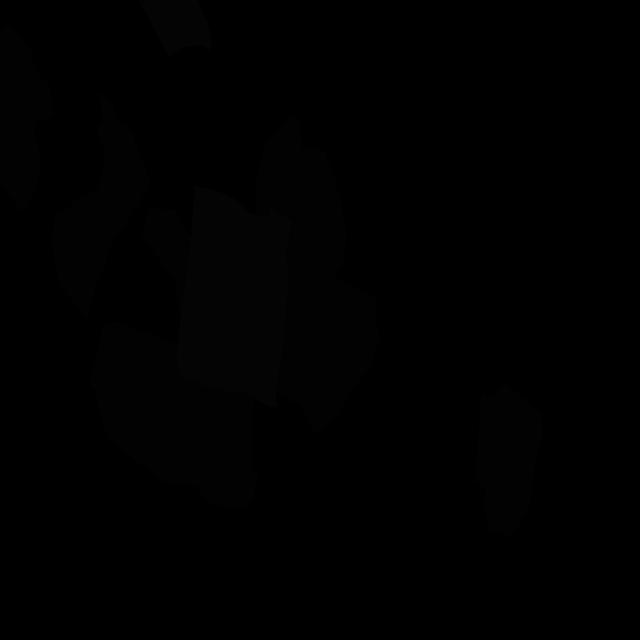cardboard: (90, 321, 259, 510), (52, 93, 151, 318), (276, 253, 380, 433), (254, 117, 347, 276), (475, 382, 544, 536), (0, 22, 55, 213), (140, 207, 191, 316)
soft_plastic: (177, 186, 293, 407), (138, 0, 212, 57)
